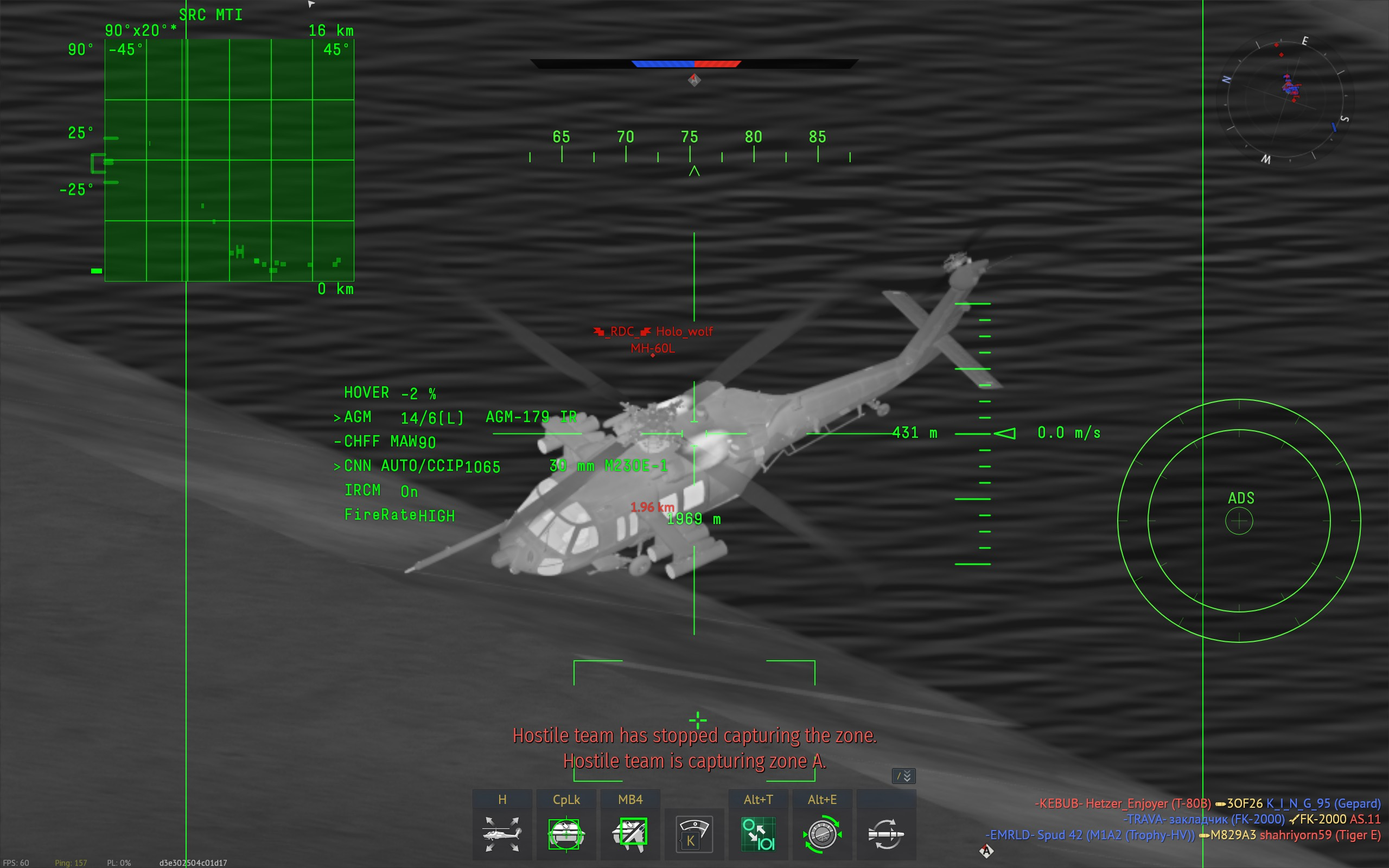ah/uh60: (401, 260, 1005, 581)
